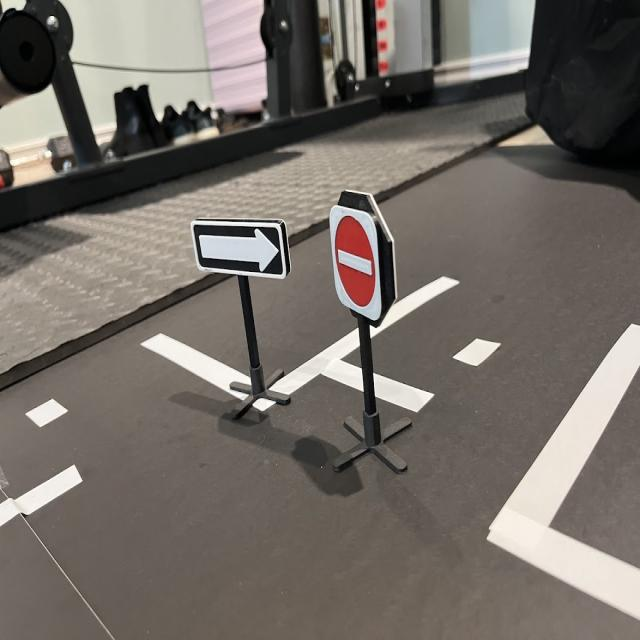sign_noentry: (329, 205, 384, 334)
sign_oneway_right: (192, 216, 297, 281)
